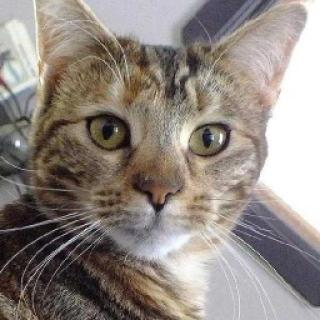cat: (33, 0, 295, 271)
nose: (124, 162, 187, 215)
